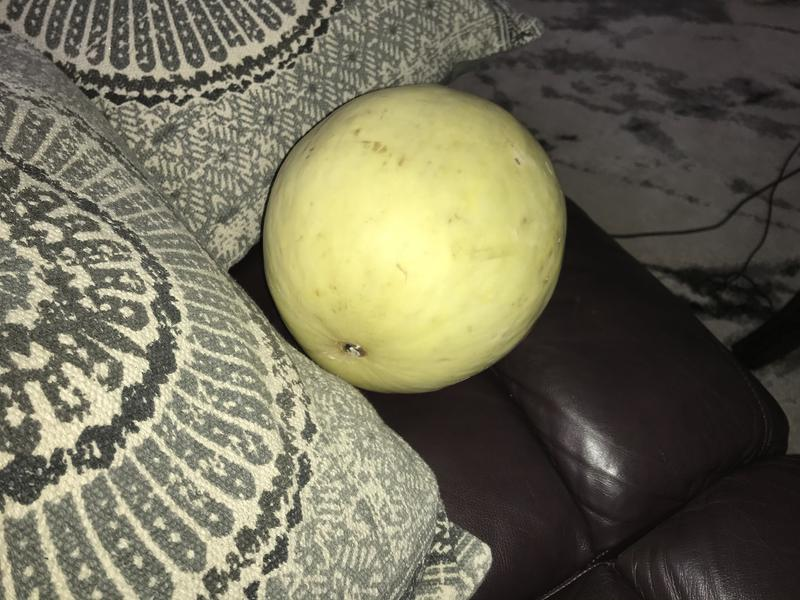honeydew: (253, 75, 572, 402)
